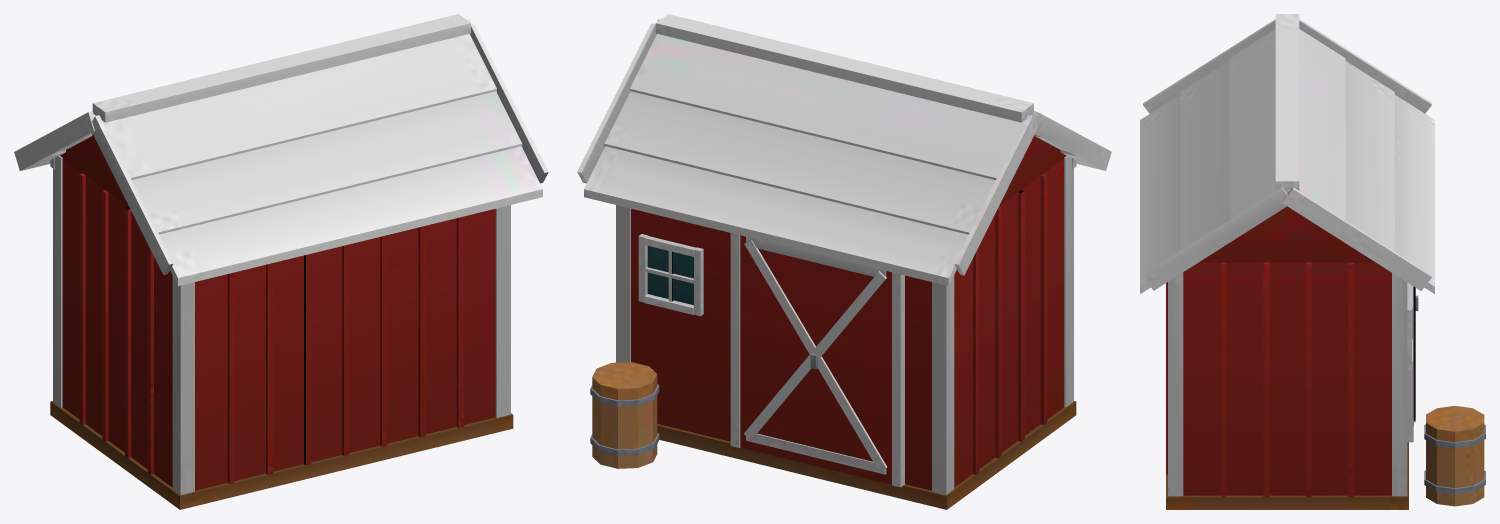
File: storehouse_2.glb
3 views of the same model, side by side, from view 1: azimuth 30°, elevation 25°; view 2: azimuth 150°, elevation 25°; view 3: azimuth 270°, elevation 25° (orthographic). The views are drawn at different scales.
Parts seen in each view (by area): view 1: shed2_red; view 2: shed2_red, door; view 3: shed2_red, door.
Boxes of the visible parts, bbox=[...] form: shed2_red: bbox=[14, 14, 548, 509]; shed2_red: bbox=[577, 14, 1111, 509]; door: bbox=[740, 235, 891, 484]; shed2_red: bbox=[1140, 14, 1485, 509]; door: bbox=[1413, 287, 1418, 426].
Size of the model in its own units: 3.5 by 3.15 by 2.93.
5 materials, 5 textured.
